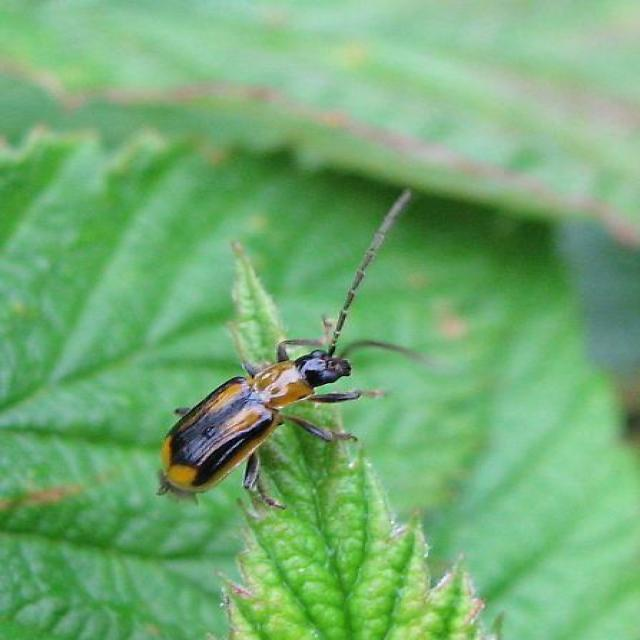trips: (160, 190, 456, 510)
